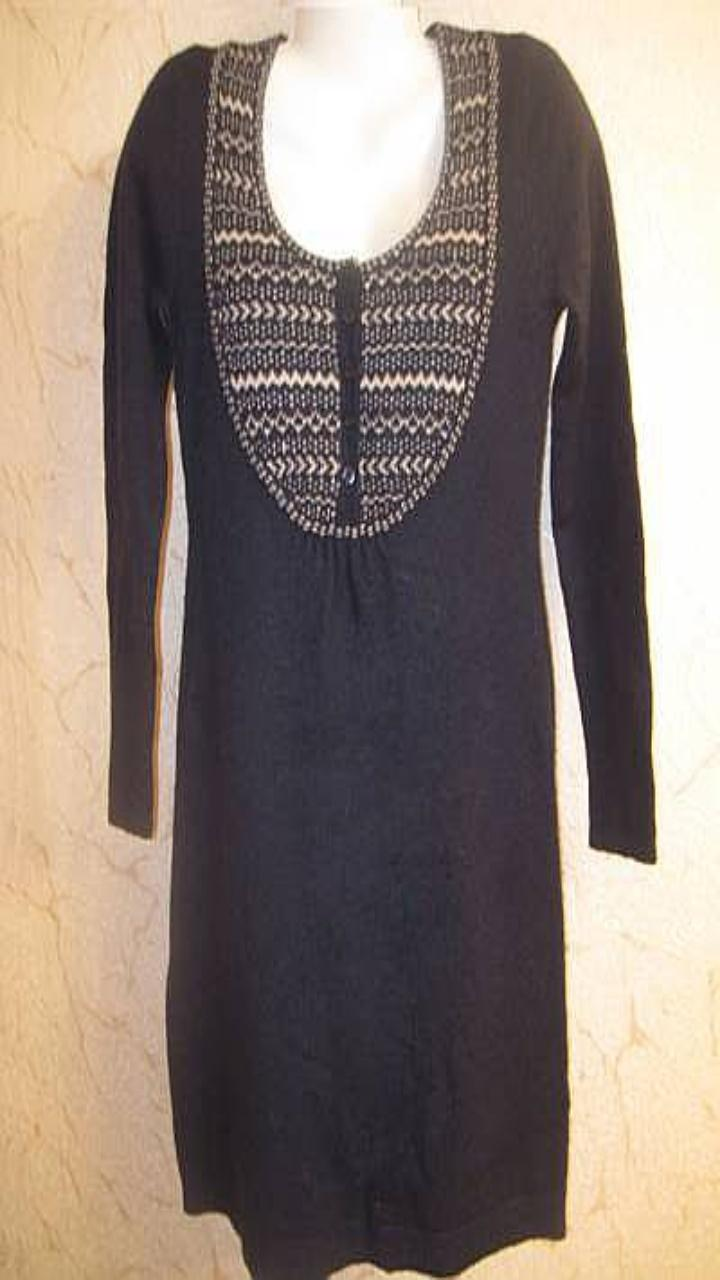T-Shirt: (103, 21, 656, 1279)
